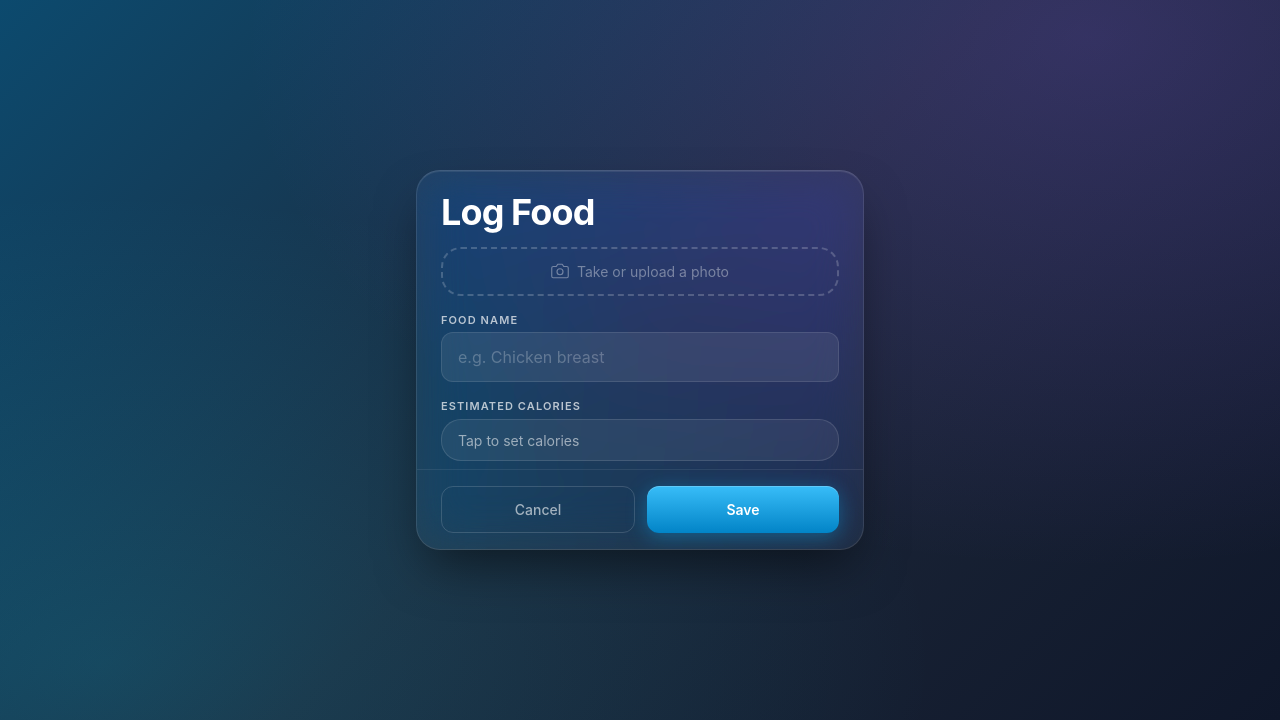
Scenario: FoodLoggingPage › handleSave_ShouldShowError_WhenFoodNameIsEmpty
Click the button "Save".
click(743, 509)  # box [647, 486, 839, 533]
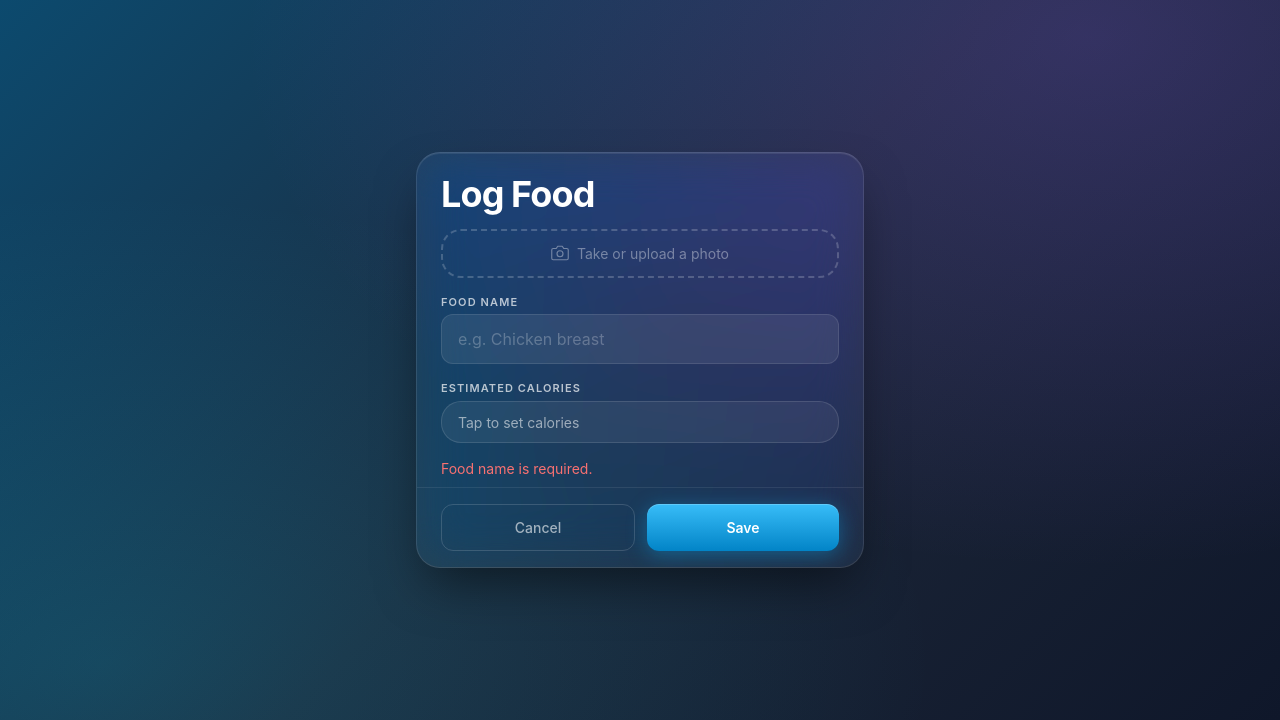
Check: the text "Food name is required." is shown, box [441, 460, 592, 477]
